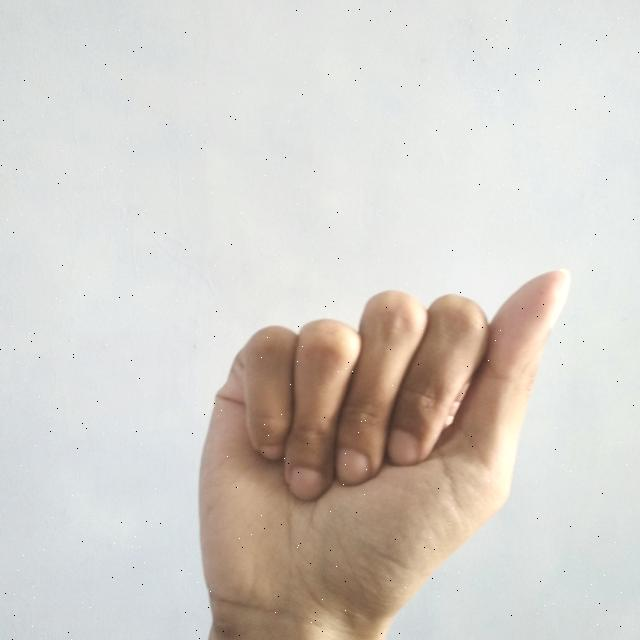A: (186, 258, 577, 640)
